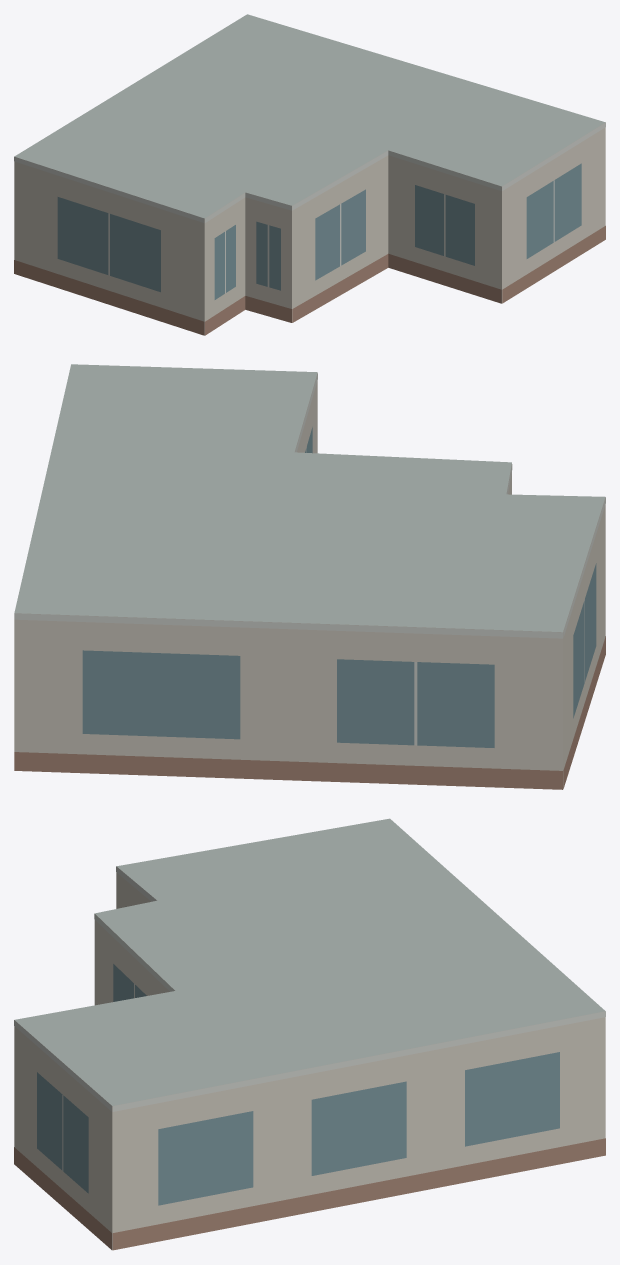
Rendered from survey-upis-32725495.glb.
The picture shows the model from 3 angles, top to bottom: view 1: azimuth 30°, elevation 25°; view 2: azimuth 150°, elevation 25°; view 3: azimuth 270°, elevation 25°; orthographic projection. The views are drawn at different scales.
Parts seen in each view (by area): view 1: survey-upis-32725495.tmp; view 2: survey-upis-32725495.tmp; view 3: survey-upis-32725495.tmp.
Part boxes in pixels (x1,y1,x2,y2): survey-upis-32725495.tmp: (14, 14, 605, 335); survey-upis-32725495.tmp: (14, 364, 605, 789); survey-upis-32725495.tmp: (14, 818, 605, 1250).
Bounding box in the file's own units: 13.05 × 3.05 × 11.34.
